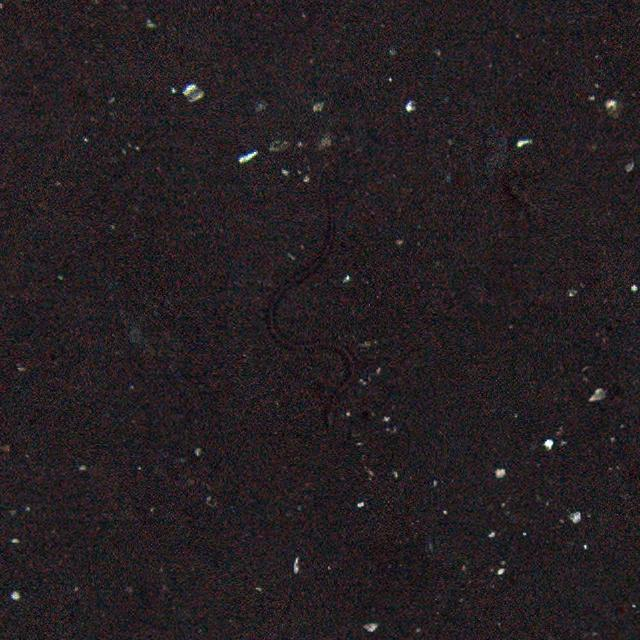eel: (266, 196, 358, 433)
